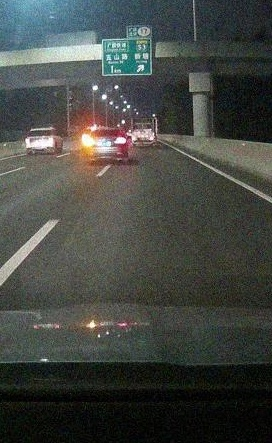L_light: (85, 138, 94, 145), (26, 138, 32, 143)
R_light: (115, 137, 127, 145), (48, 138, 54, 143)
T_light: (101, 129, 110, 131), (37, 130, 44, 131)
night-left: (84, 127, 128, 164)
night-no: (25, 128, 55, 155)
